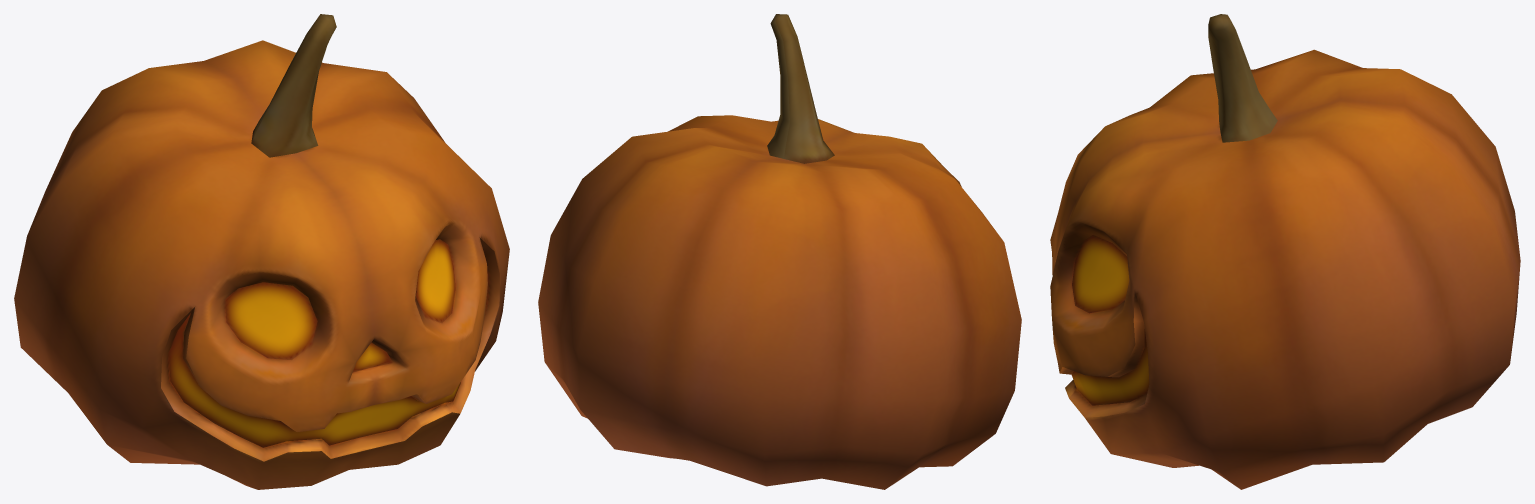
Rendered from Mon_Pumpkin.fbx.
3 renders of one model, left to right at view 1: azimuth 30°, elevation 25°; view 2: azimuth 150°, elevation 25°; view 3: azimuth 270°, elevation 25°, orthographic. The views are drawn at different scales.
Parts seen in each view (by area): view 1: Object018; view 2: Object018; view 3: Object018.
Part boxes in pixels (x1,y1,x2,y2): Object018: (14,14,509,489); Object018: (538,14,1021,489); Object018: (1050,14,1520,489).
Size of the model in its own units: 128 by 129 by 126.
1 material, 1 textured.
